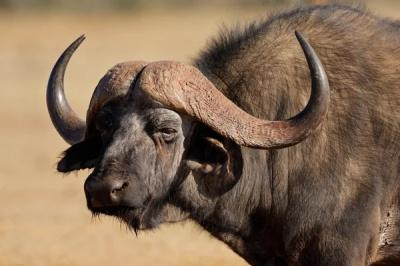buffalo: (47, 5, 399, 265)
